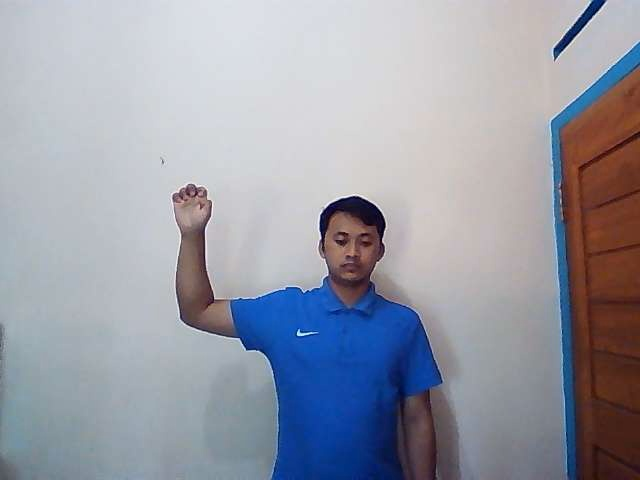E: (171, 183, 213, 236)
